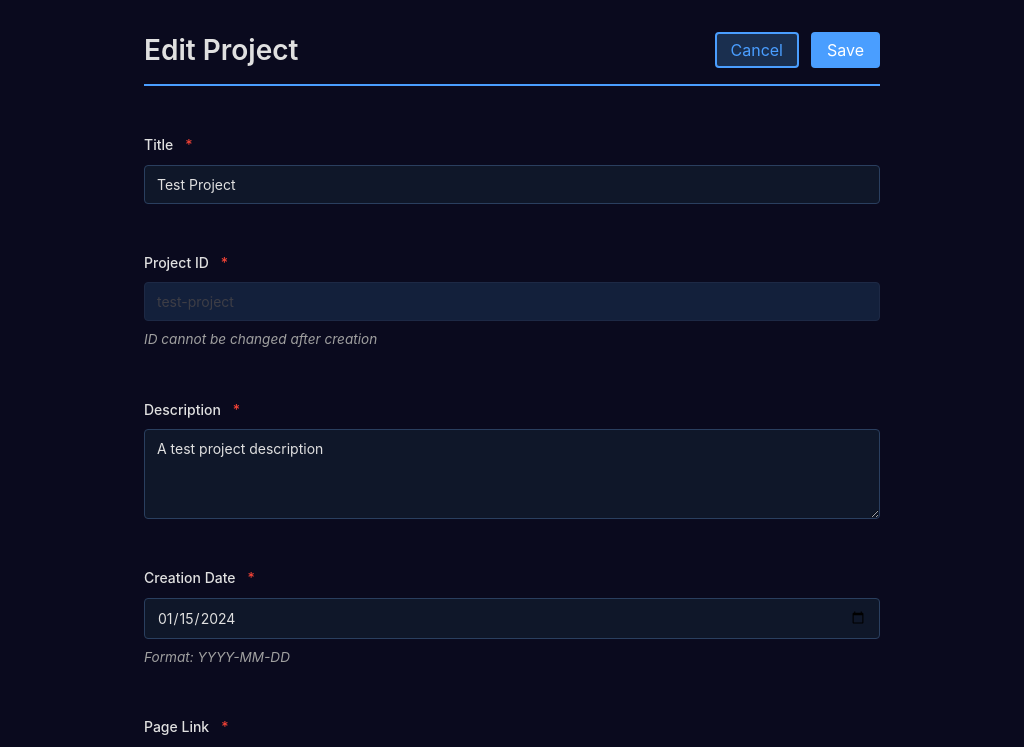
Test: ProjectForm › Form Submission › should disable form during submission
Step 1. Click the button "Save" → (846, 50), box [811,32,880,68]
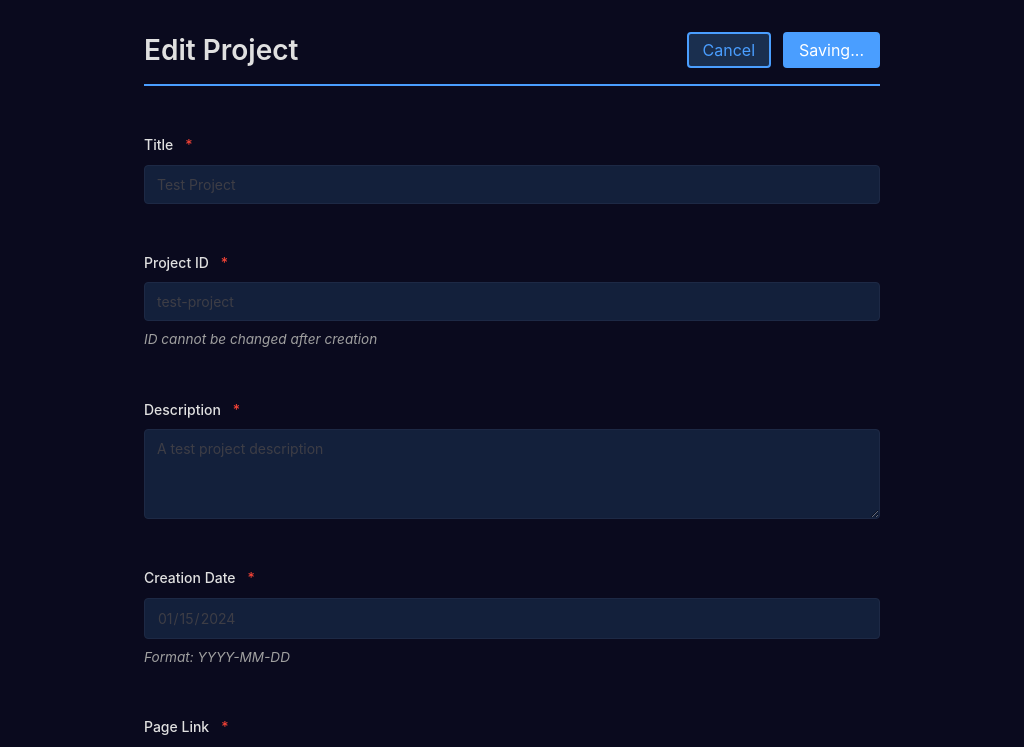
Now the field labelled "Title" is disabled, box [144,165,880,204]
Now the button "Cancel" is disabled, box [686,32,771,68]
